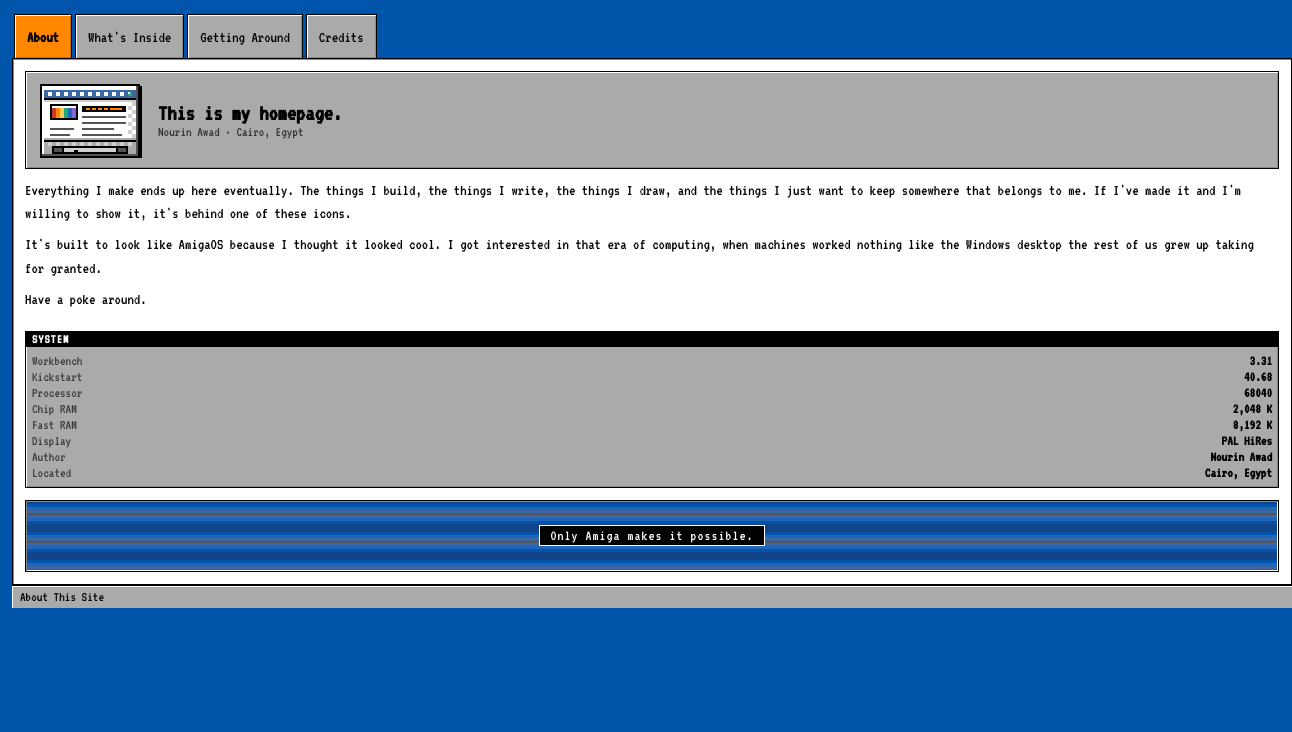
it: AboutSite › on a phone › leaves Sticky Notes out and uses phone wording
Click the tab "What's Inside": coordinates (130, 36) [75,14,184,58]
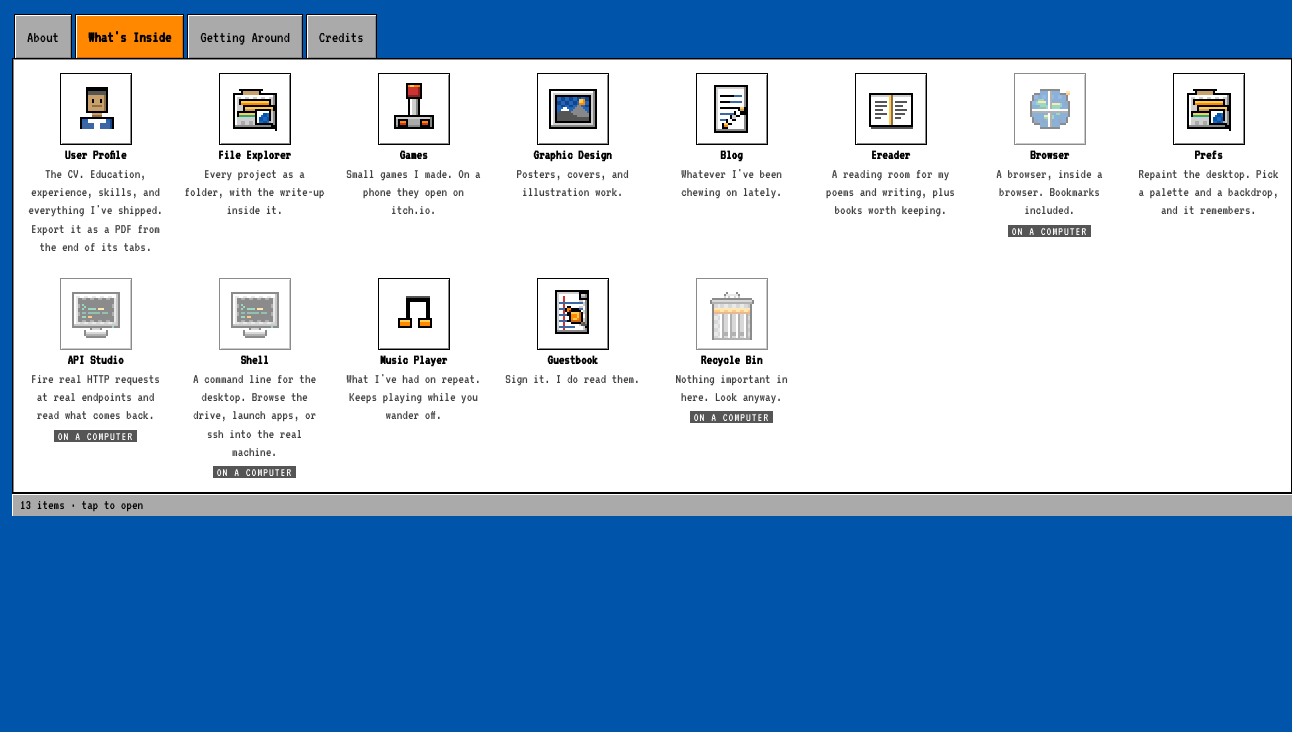
Expected: the text "13 items · tap to open" is shown, [12,493,1291,516]
Expected: the text "from the end of its tabs" is shown, [28,167,163,254]
Click the tab "Getting Around": coordinates (245, 36) [187,14,303,58]
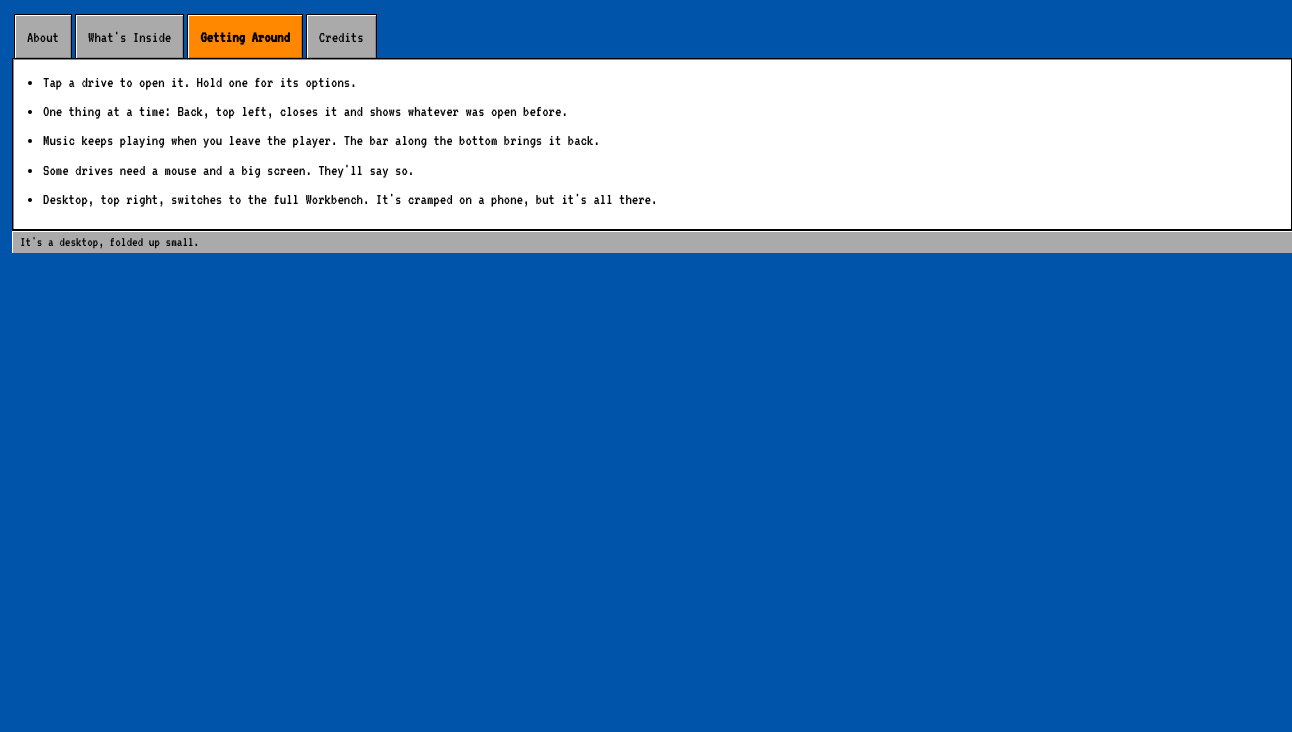
Expected: the list item "Tap a drive to open it. Hold one for its options." is shown, [43,74,357,90]
